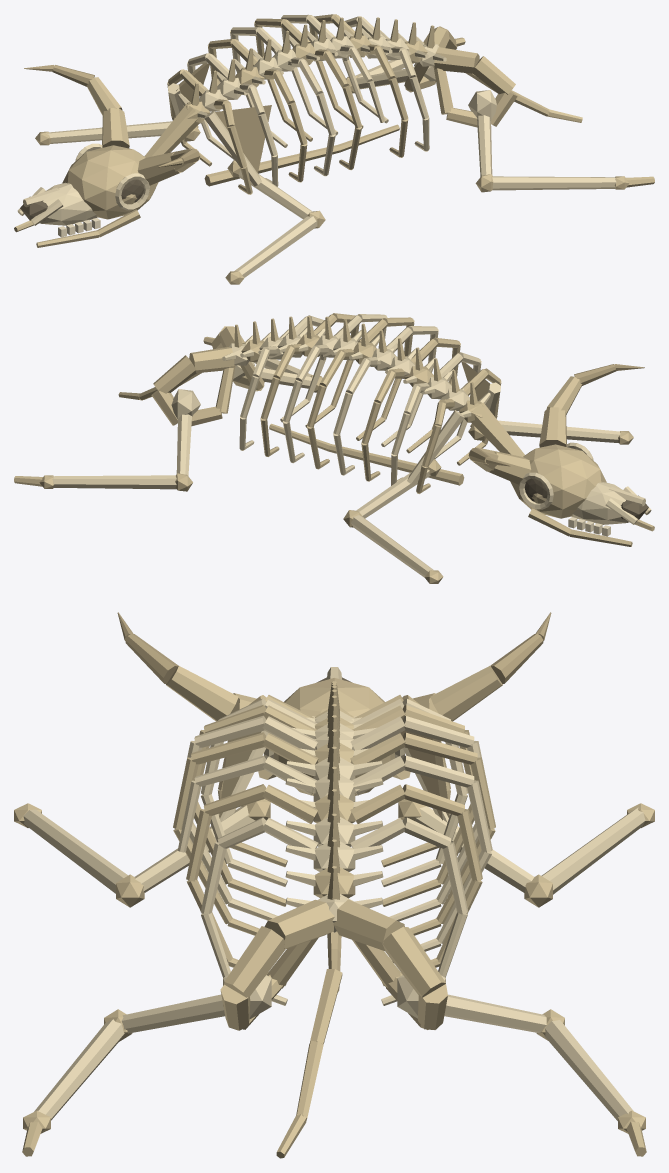
Rendered from 动物骸骨.glb.
3 views of the same model, one above another, from view 1: azimuth 30°, elevation 25°; view 2: azimuth 150°, elevation 25°; view 3: azimuth 270°, elevation 25° (orthographic). The views are drawn at different scales.
Parts seen in each view (by area): view 1: Rib cage, Skull, Spine and pelvis, Scattered limb bones, Shoulder blades; view 2: Rib cage, Skull, Spine and pelvis, Scattered limb bones, Shoulder blades; view 3: Rib cage, Spine and pelvis, Scattered limb bones, Skull, Shoulder blades.
Boxes of the visible parts, x1,y1,x2,y2 form: Rib cage: (167,14,429,194); Skull: (14,65,199,247); Spine and pelvis: (178,16,582,127); Scattered limb bones: (35,37,654,284); Shoulder blades: (168,62,271,186); Rib cage: (239,313,501,493); Skull: (468,364,654,546); Spine and pelvis: (118,316,490,426); Scattered limb bones: (14,336,633,583); Shoulder blades: (407,362,500,485); Rib cage: (173,695,495,1005); Spine and pelvis: (220,681,447,1158); Scattered limb bones: (14,799,654,1156); Skull: (117,612,551,795); Shoulder blades: (211,730,457,826).
Size of the model in its own units: 3.35 by 0.8901 by 2.13.
